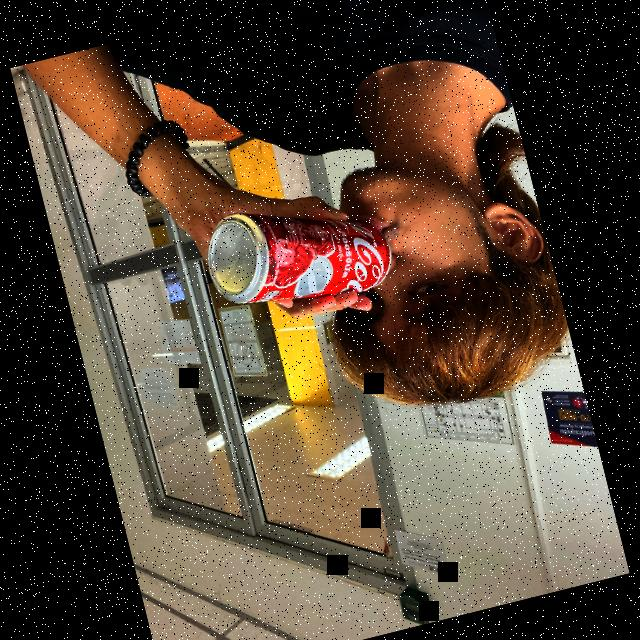can: (183, 174, 411, 330)
